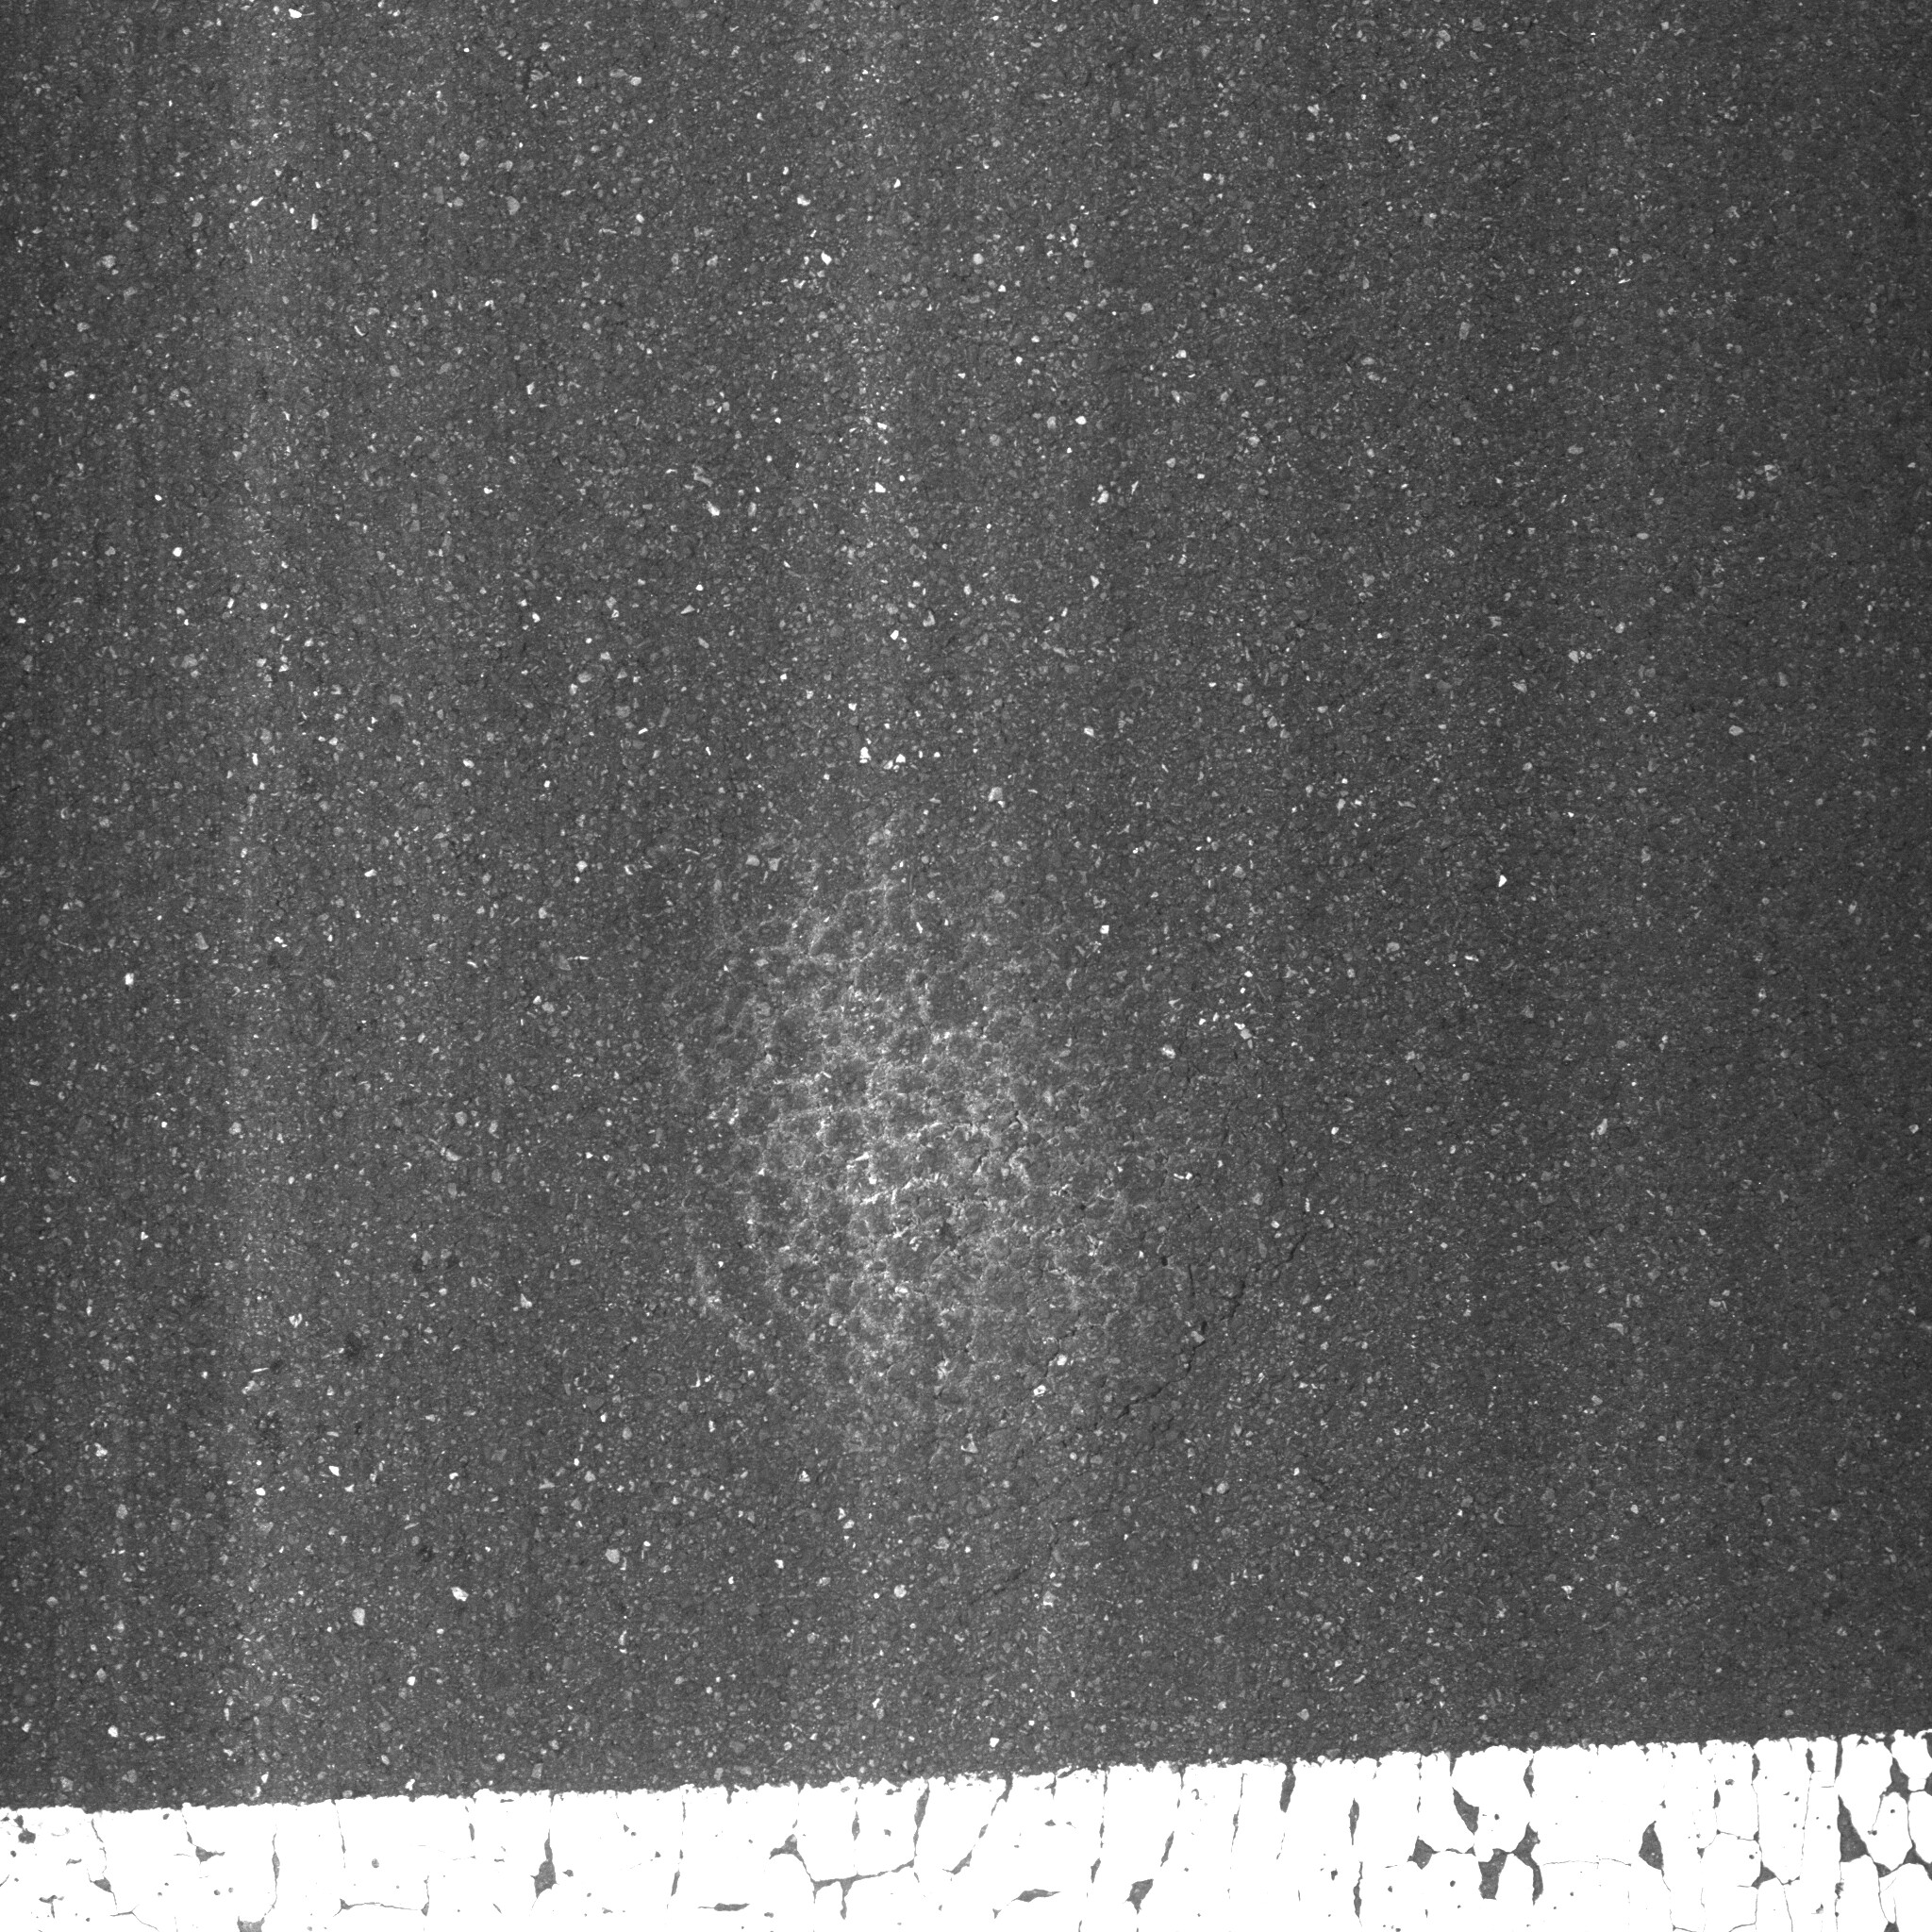alligator: (609, 835, 1309, 1458)
